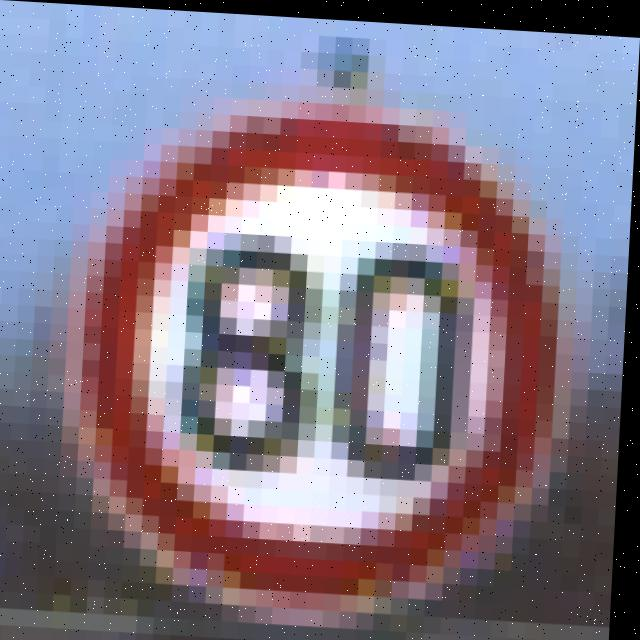speed_limit_80: (63, 97, 575, 634)
